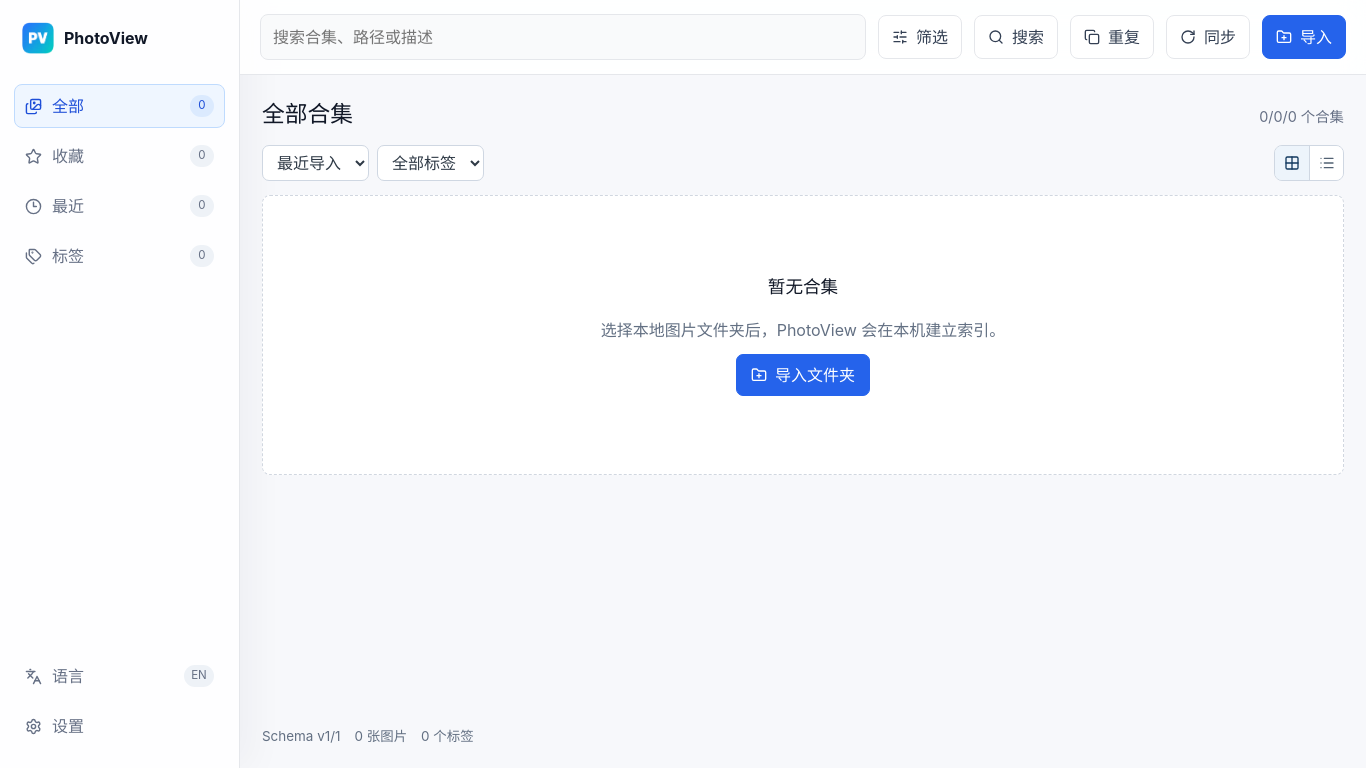
Test: App › keeps settings separate from library search controls
This screenshot has width=1366, height=768.
Click the button "设置": (120, 726) [14,704,225,748]
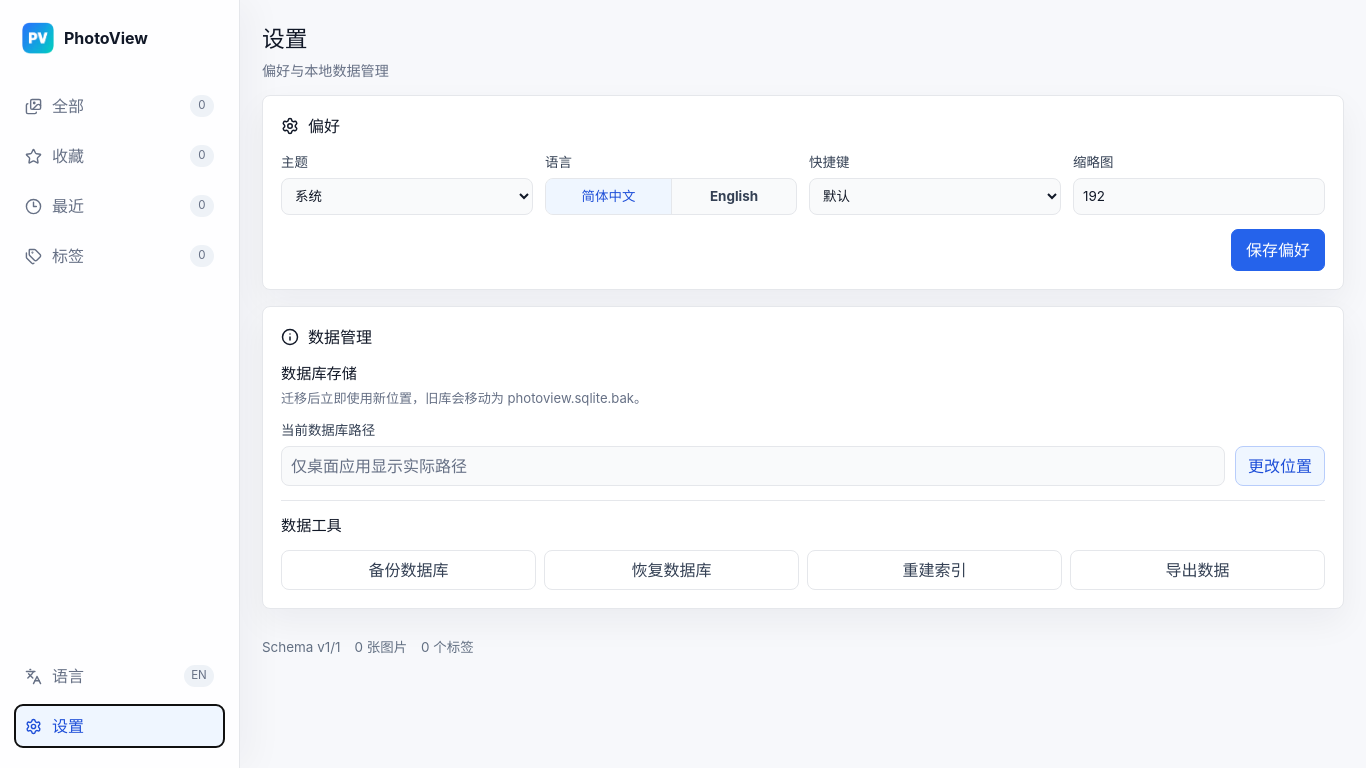
Expected: the heading "设置" is shown, [262,25,307,52]
Expected: the dropdown labelled "主题" shows "系统", [281,178,533,214]
Expected: the number field labelled "缩略图" holds "192", [1073,178,1325,214]
Click the button "全部 0": (120, 106) [14,84,225,128]
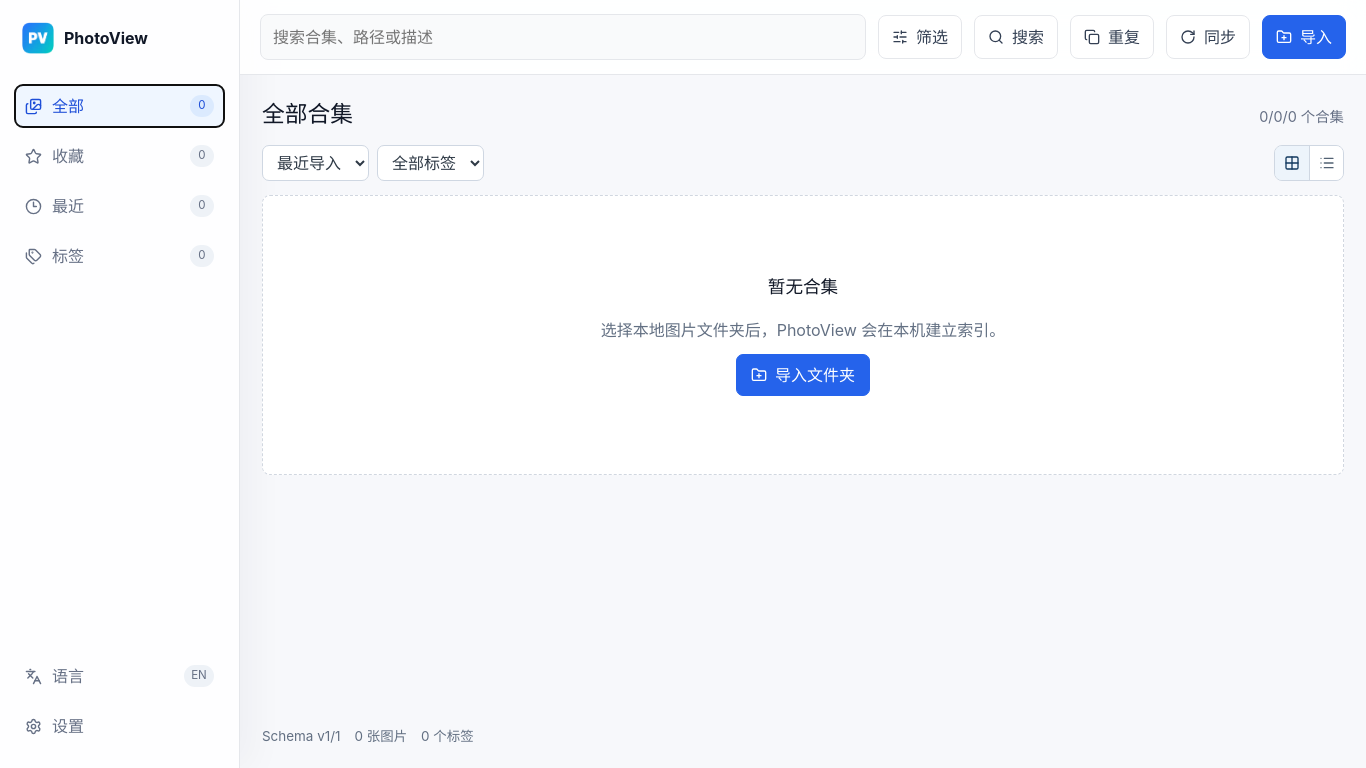
Click the button "筛选": (920, 37) [878,15,962,59]
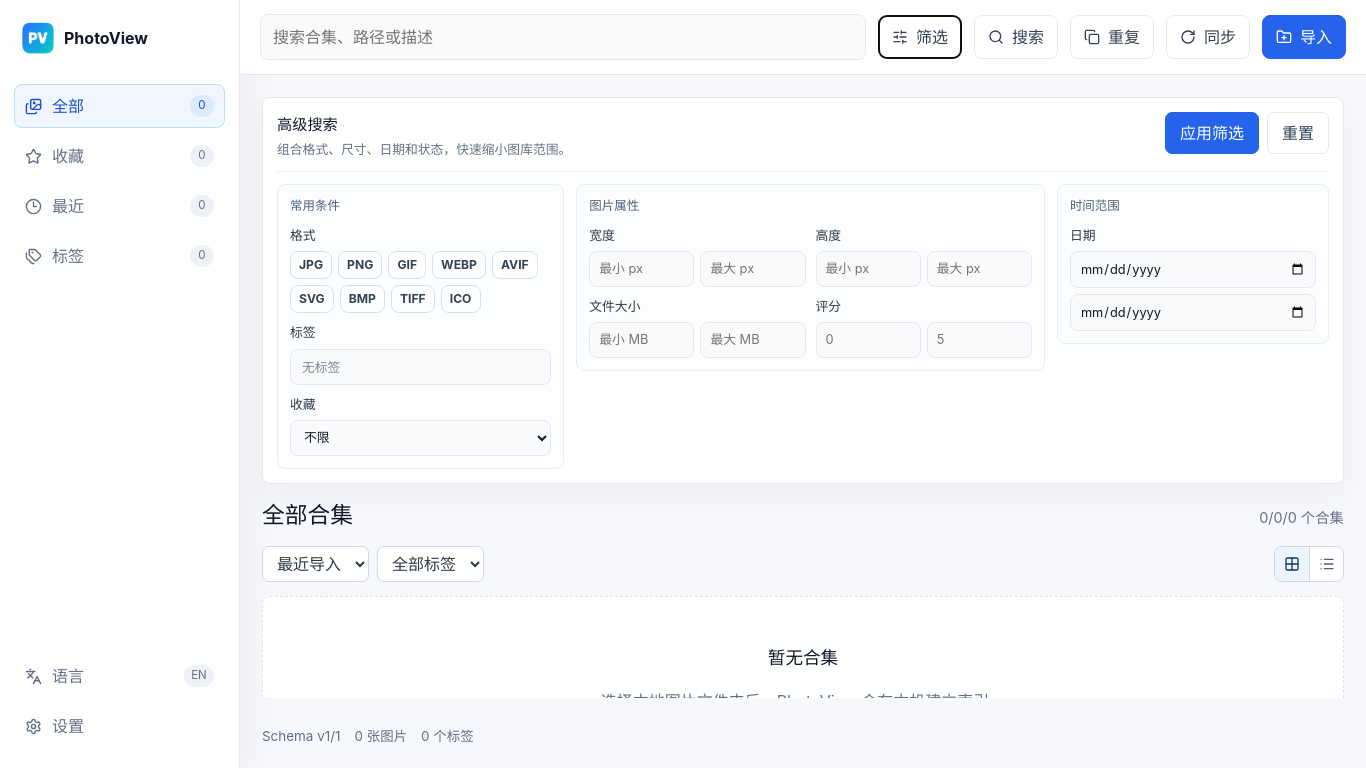
Expected: the element labelled "高级搜索" is shown, [262,97,1344,484]
Expected: the element "格式" is shown, [290,226,551,313]
